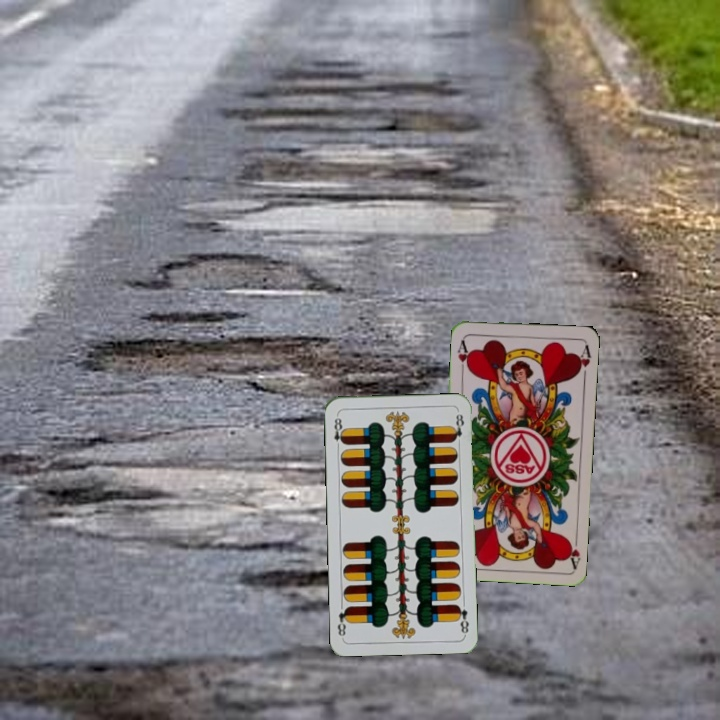E8: (330, 411, 347, 452), (453, 601, 471, 637)
HA: (453, 334, 473, 375), (563, 529, 583, 570)
